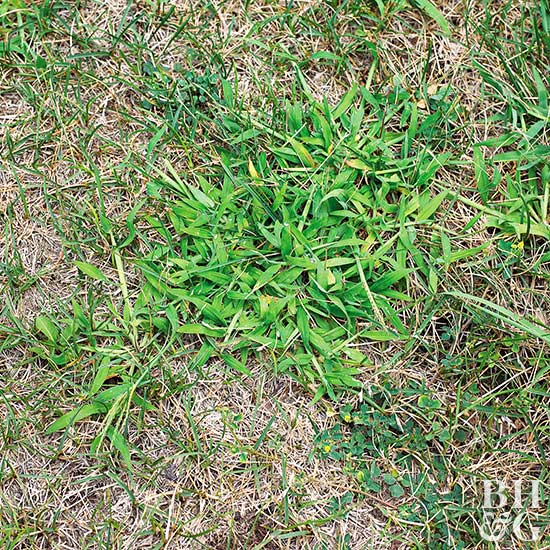crabgrass: (111, 61, 455, 404)
